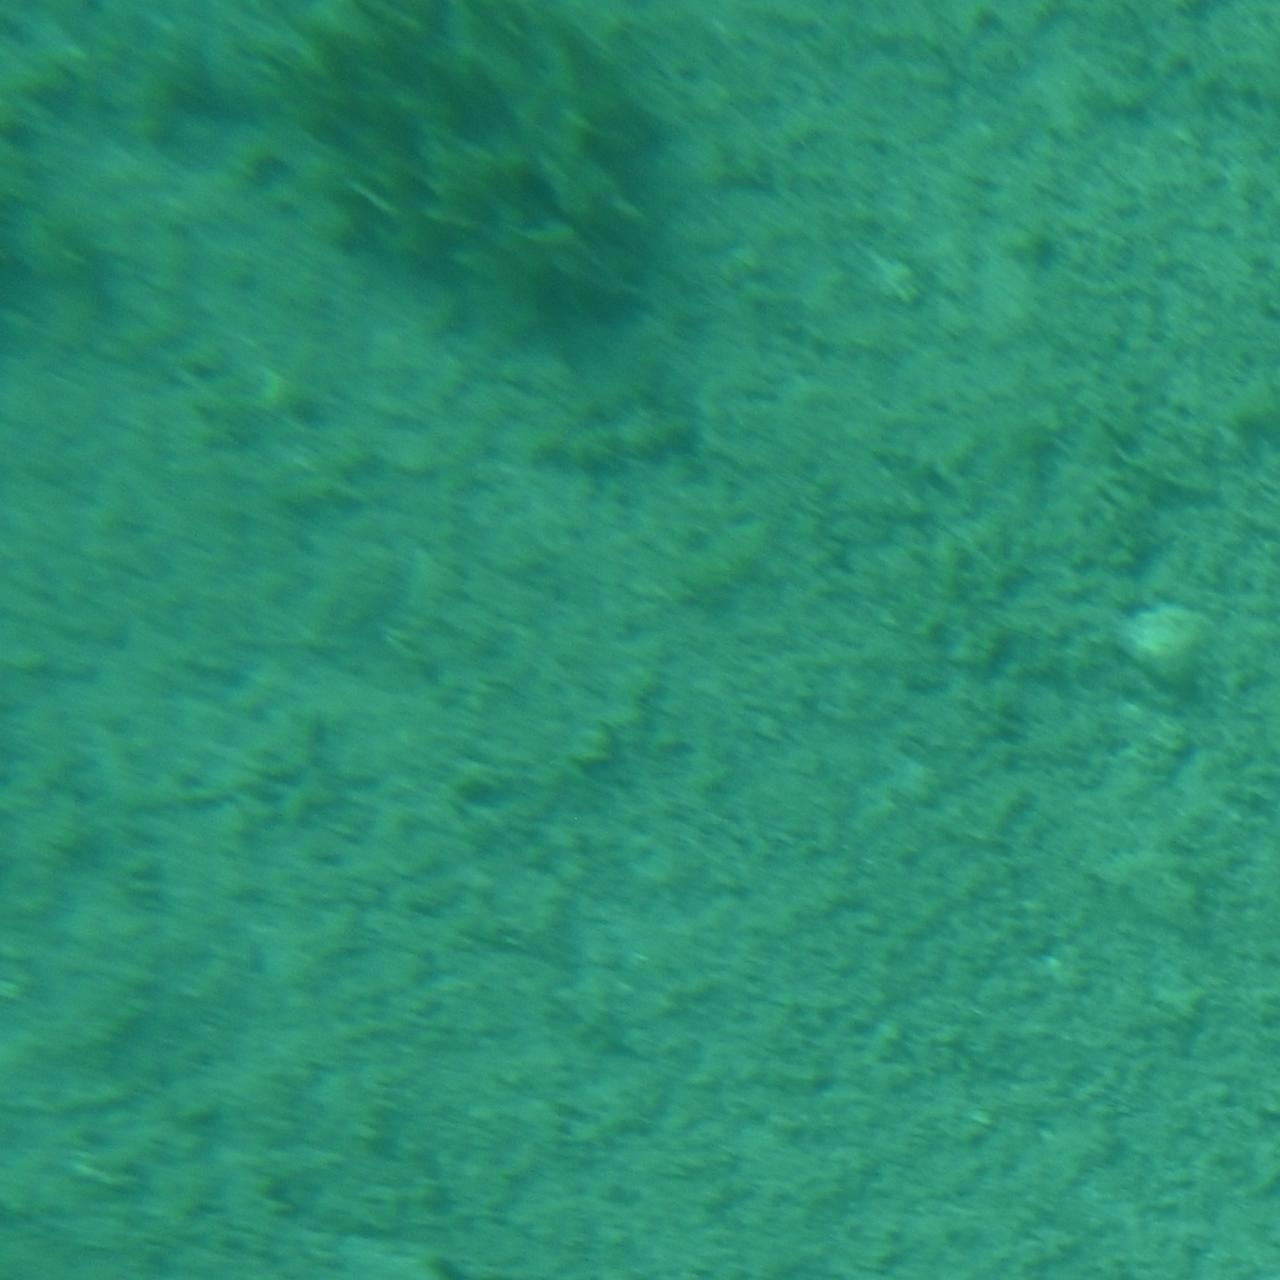Phaeophyceae -cfr Cystoseira-: (278, 1, 685, 325)
